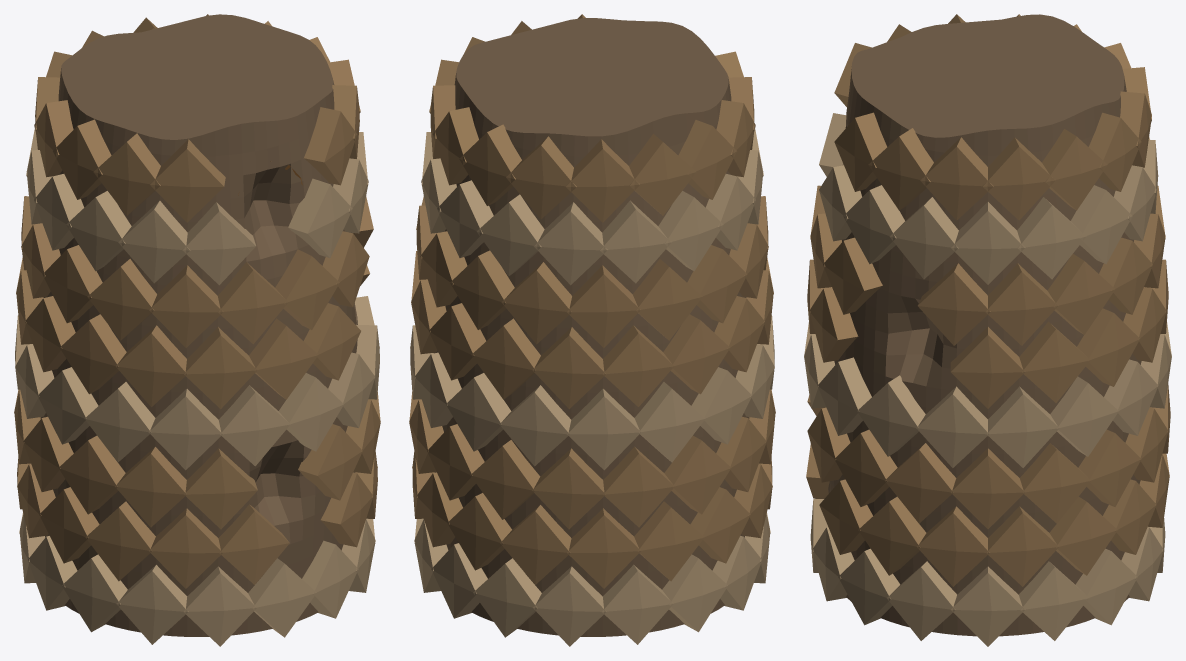
3 views of the same model, side by side, from view 1: azimuth 30°, elevation 25°; view 2: azimuth 150°, elevation 25°; view 3: azimuth 270°, elevation 25° (orthographic).
Parts seen in each view (by area): view 1: staggered_leaf_base_armor.001, trunk_core_recessed_sites, staggered_leaf_base_armor; view 2: staggered_leaf_base_armor.001, staggered_leaf_base_armor, trunk_core_recessed_sites; view 3: staggered_leaf_base_armor.001, staggered_leaf_base_armor, trunk_core_recessed_sites.
Part boxes in pixels (bbox=[...]): staggered_leaf_base_armor.001: bbox=[14, 14, 380, 588]; trunk_core_recessed_sites: bbox=[40, 14, 357, 636]; staggered_leaf_base_armor: bbox=[15, 128, 379, 646]; staggered_leaf_base_armor.001: bbox=[409, 14, 775, 588]; staggered_leaf_base_armor: bbox=[410, 128, 774, 646]; trunk_core_recessed_sites: bbox=[434, 18, 749, 636]; staggered_leaf_base_armor.001: bbox=[806, 14, 1170, 586]; staggered_leaf_base_armor: bbox=[804, 113, 1171, 646]; trunk_core_recessed_sites: bbox=[828, 14, 1141, 636].
Bounding box in the file's own units: 0.8086 × 1.23 × 0.8086.
